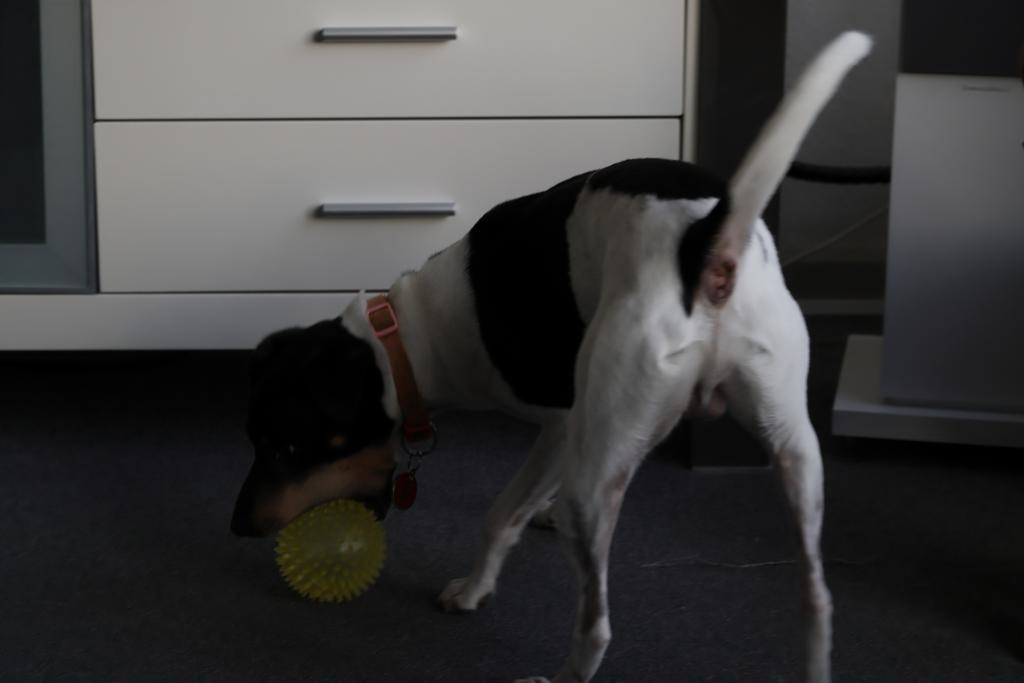Dog: (219, 23, 879, 683)
